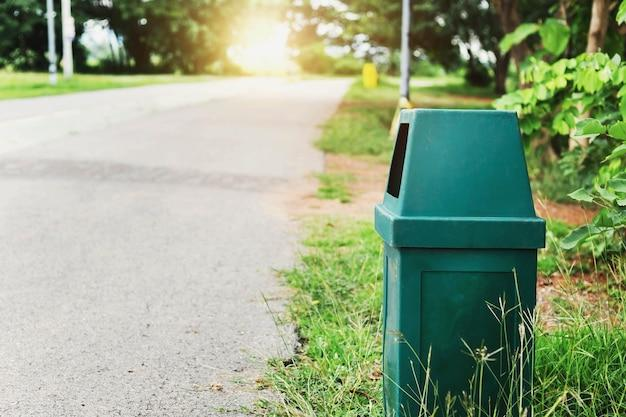garbage bin: (374, 110, 545, 416)
road: (0, 77, 350, 415)
